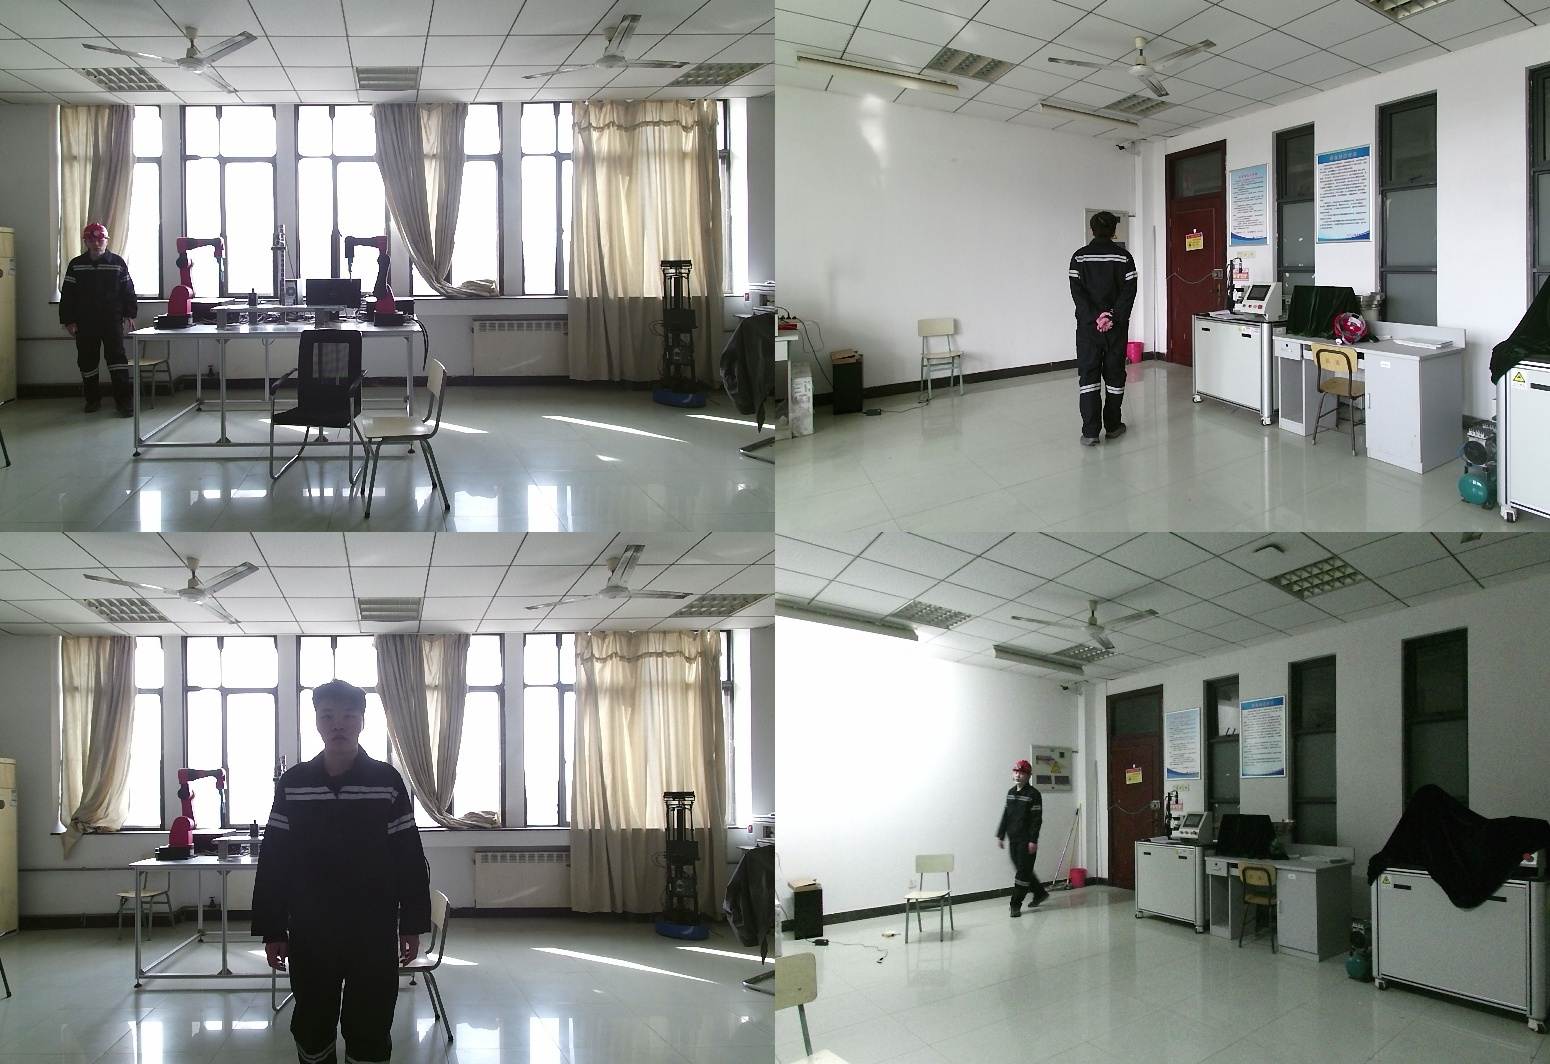person: (255, 681, 442, 1064), (1063, 211, 1142, 450), (57, 224, 137, 416), (1004, 763, 1050, 921)
